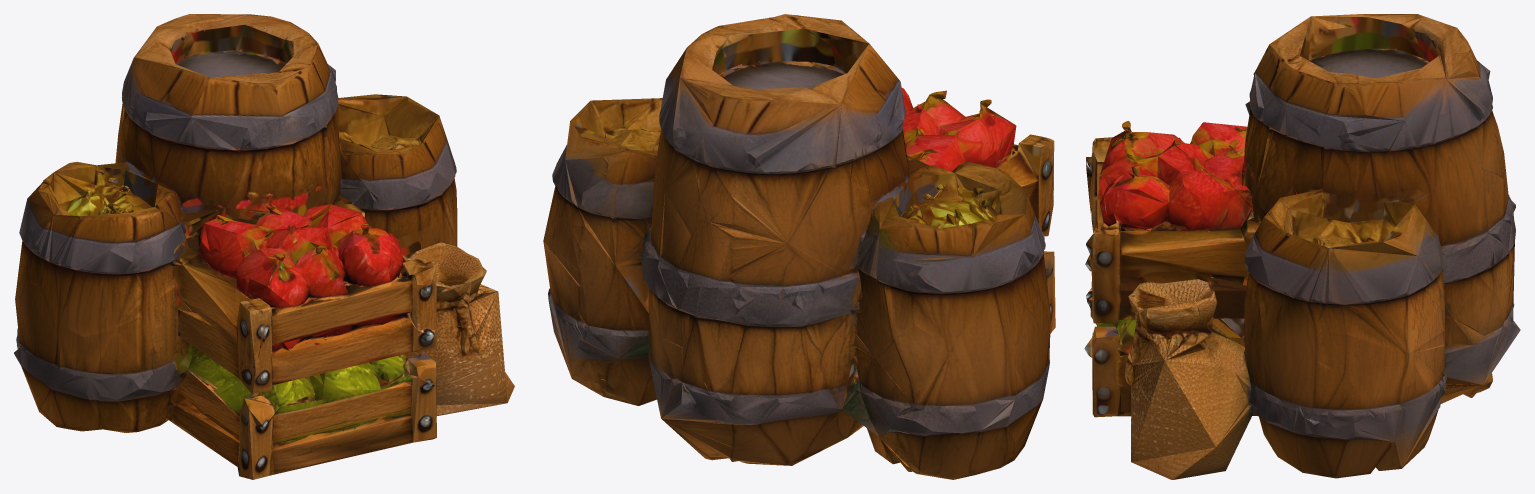
File: ck_props_barrels.glb
The picture shows the model from 3 angles, left to right: view 1: azimuth 30°, elevation 25°; view 2: azimuth 150°, elevation 25°; view 3: azimuth 270°, elevation 25°; orthographic projection. The views are drawn at different scales.
Visible parts, largest first — view 1: ck_props_barrels; view 2: ck_props_barrels; view 3: ck_props_barrels.
Boxes of the visible parts, x1,y1,x2,y2 form: ck_props_barrels: (14,14,514,479); ck_props_barrels: (543,14,1055,479); ck_props_barrels: (1084,14,1520,479).
Size of the model in its own units: 1.97 by 1.48 by 1.68.
Materials: 1 (1 with a texture image).
